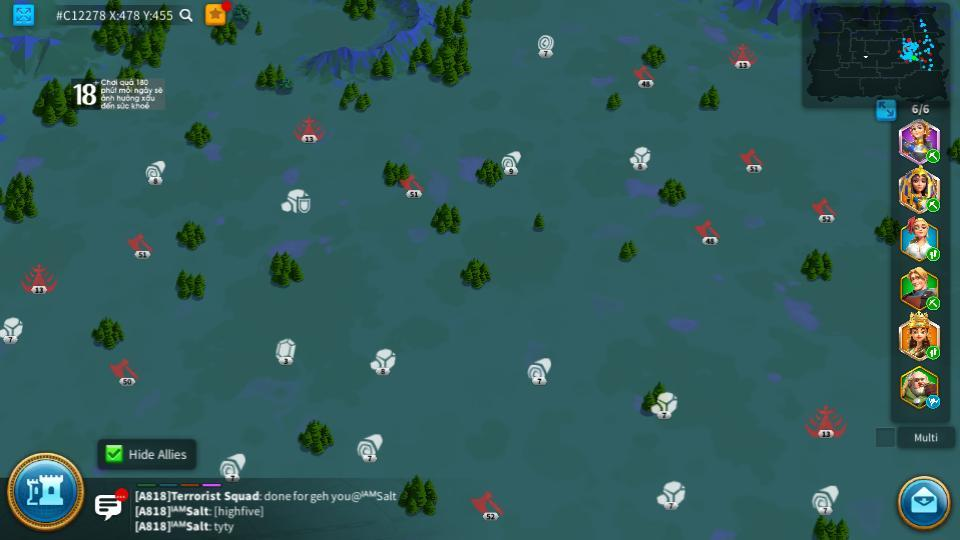gem-z-out: (275, 339, 297, 364)
march_idle: (925, 396, 942, 408)
march_marching: (925, 197, 941, 212), (925, 347, 941, 359), (925, 297, 942, 308), (925, 250, 942, 261), (925, 151, 941, 162)
